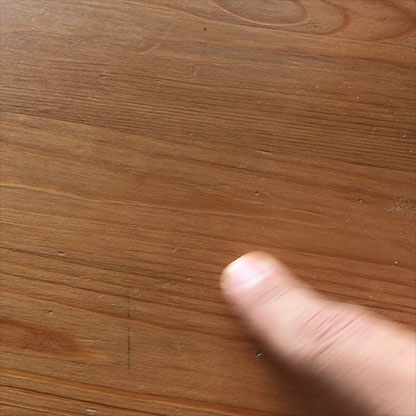fingertip: (211, 240, 289, 308)
